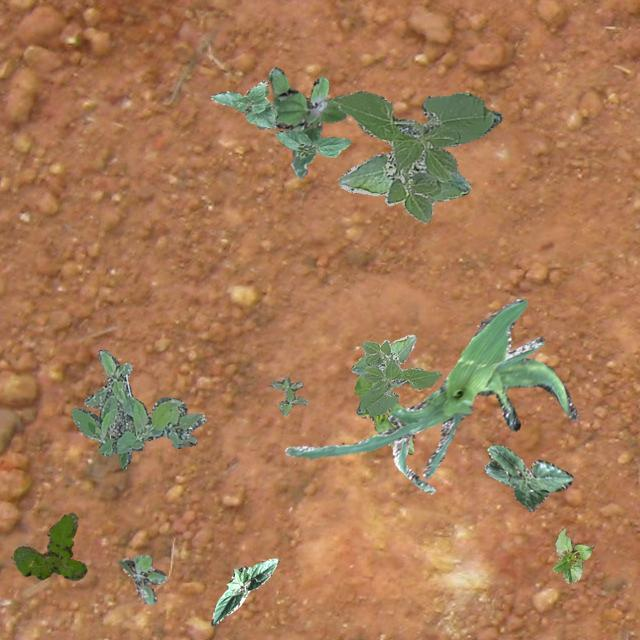crop: (284, 298, 544, 478), (392, 357, 578, 492), (332, 90, 502, 222), (350, 334, 440, 416), (352, 374, 413, 454), (210, 558, 278, 624), (486, 444, 572, 492), (483, 460, 548, 510), (210, 80, 276, 128), (552, 528, 592, 584), (274, 130, 350, 156)
weed: (70, 348, 206, 469), (256, 66, 344, 178), (13, 512, 86, 580), (118, 554, 166, 604), (270, 376, 306, 414)
